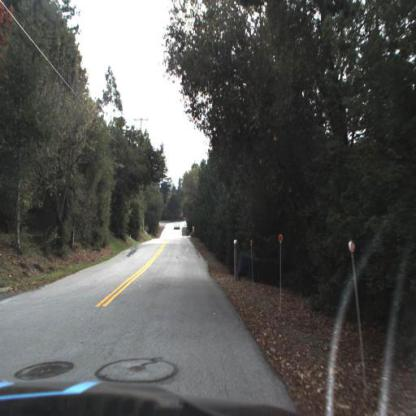car: (173, 218, 183, 237), (173, 219, 183, 236)
